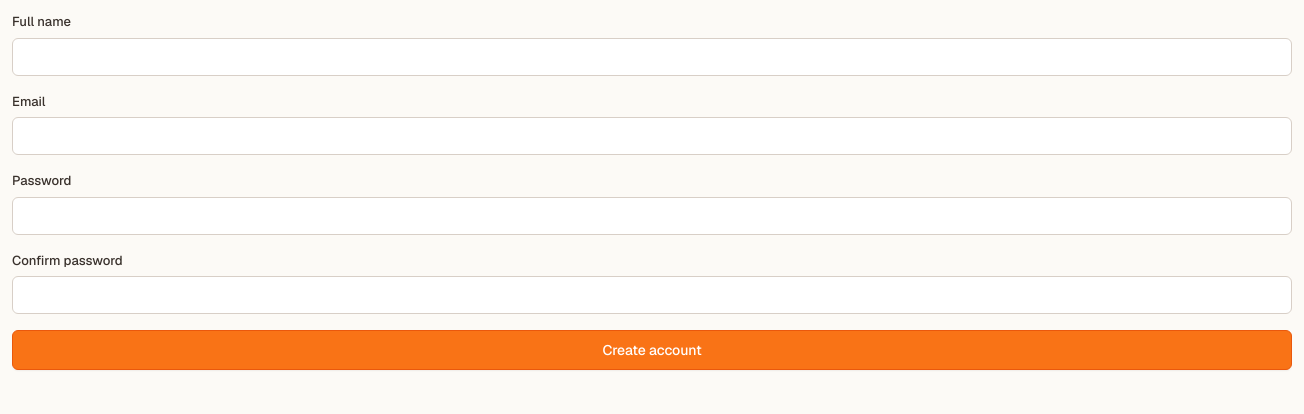
Test case: RegisterForm › shows an inline message naming the missing-number rule for a weak password
Type "Weak Pass" into the field labelled "Full name" at [652, 56], box [12,38,1292,76]
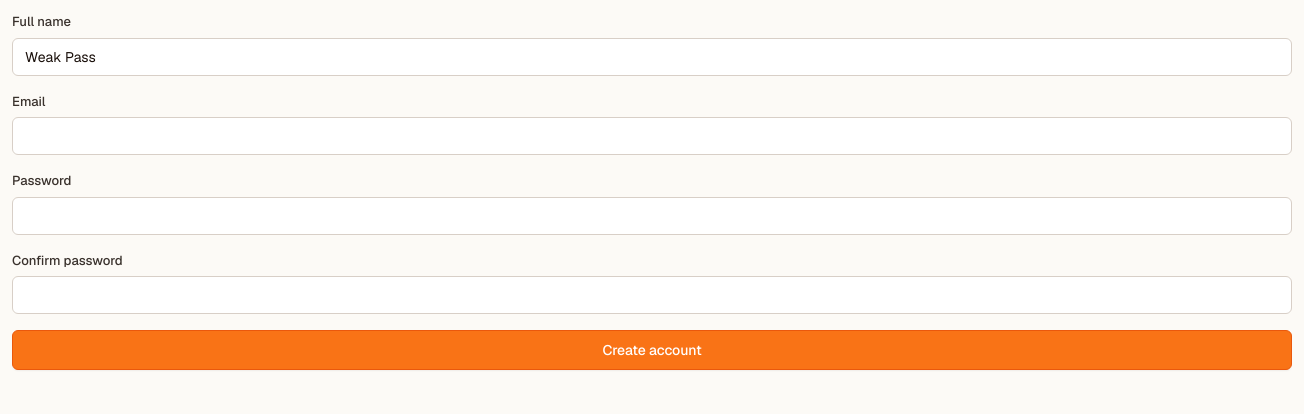
Type "weakpass@example.com" into the field labelled "Email" at [652, 136], box [12,117,1292,155]
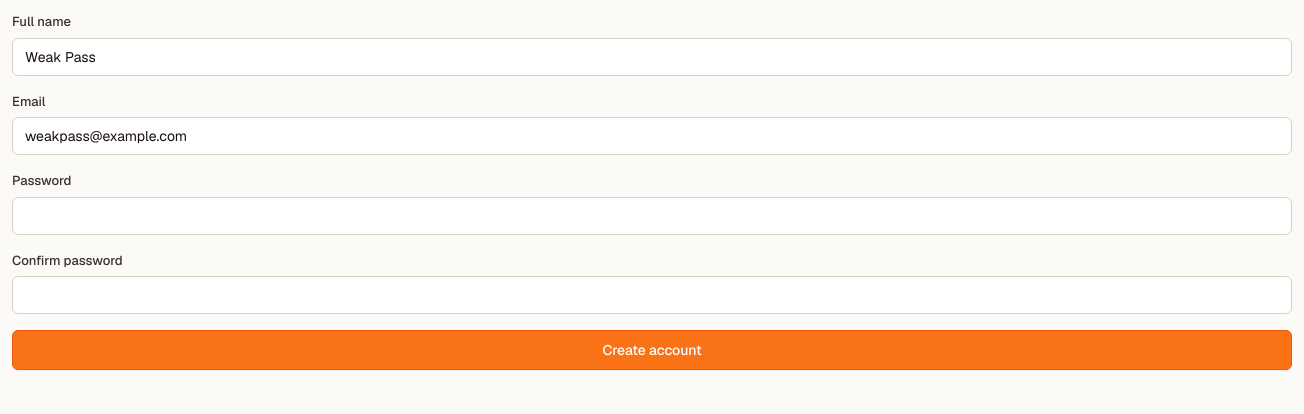
Type "OnlyLetters" into the password field labelled "Password" at [652, 216], box [12,196,1292,234]
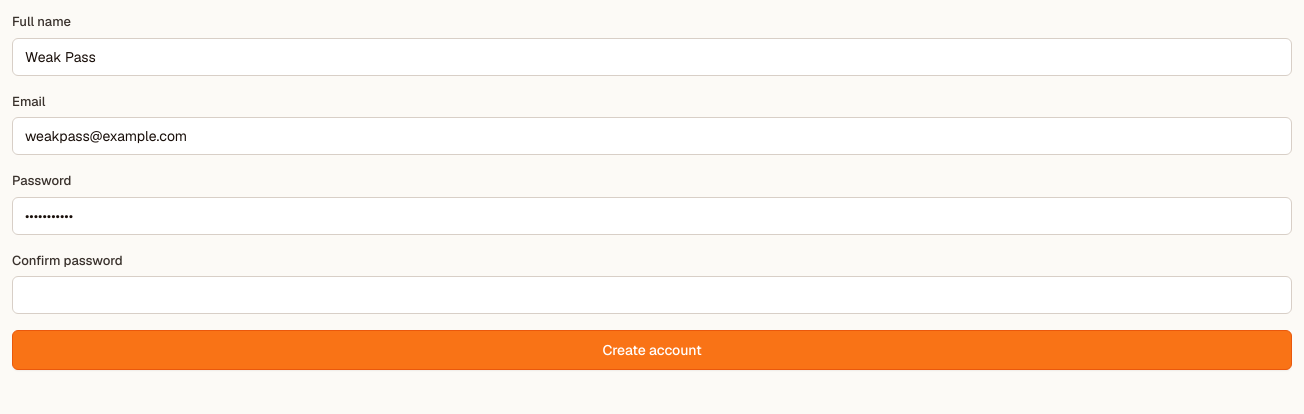
Type "OnlyLetters" into the password field labelled "Confirm password" at [652, 295], box [12,276,1292,314]
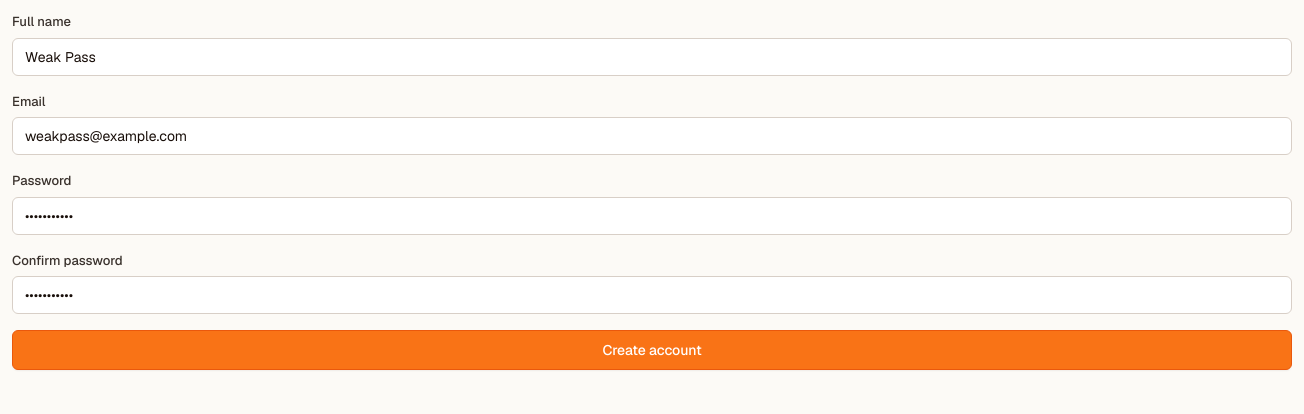
Click the button "Create account" at [652, 350], box [12,330,1292,370]
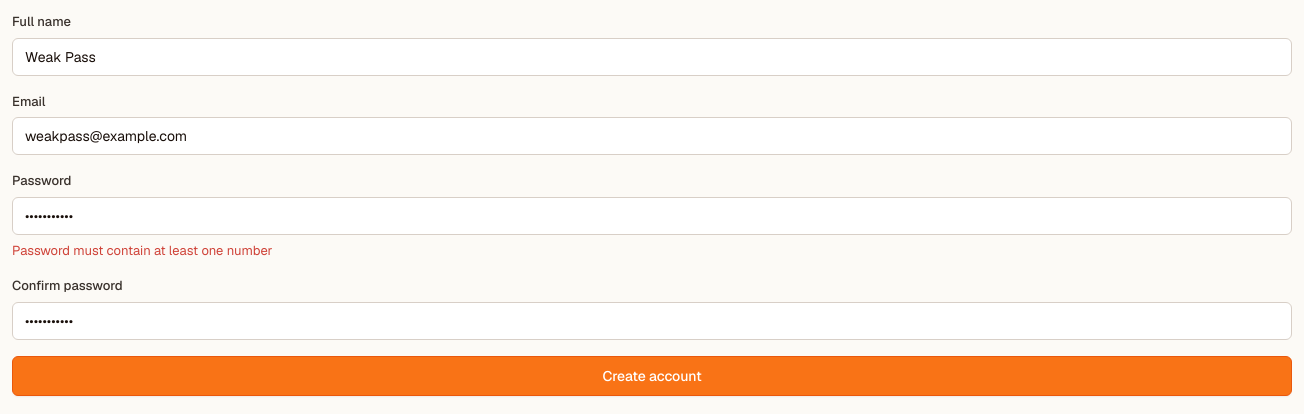
Now the text "Password must contain at least one number" is shown, box [12,242,272,258]
